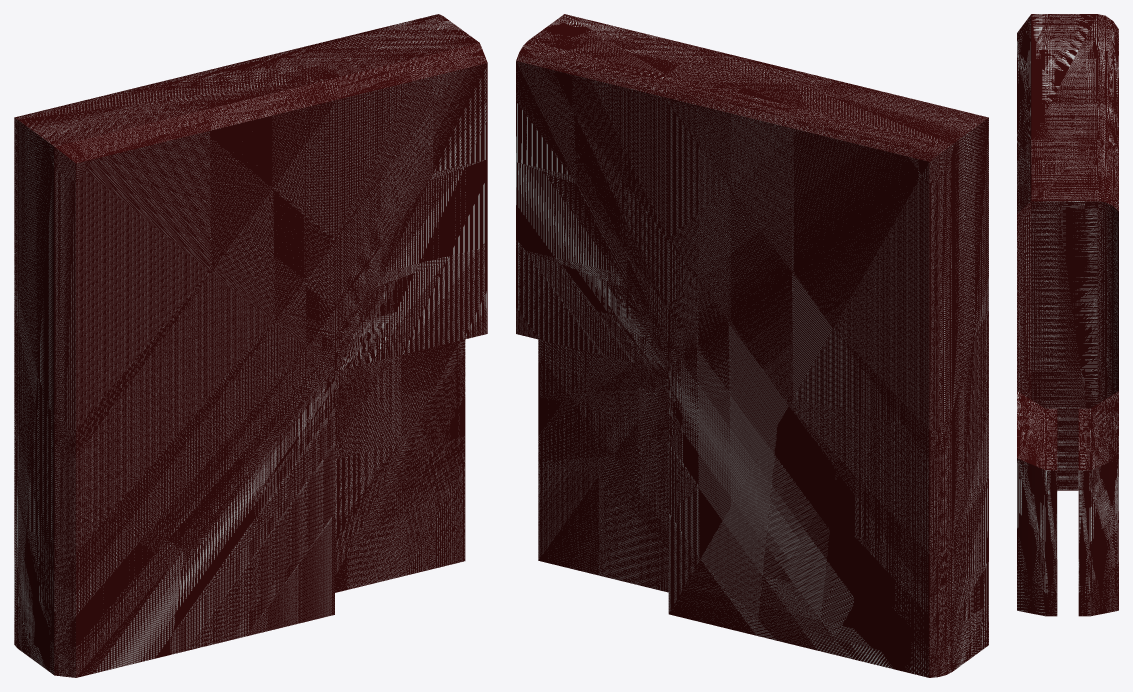
The model's file is original-42.obj.
The picture shows the model from 3 angles, left to right: view 1: azimuth 30°, elevation 25°; view 2: azimuth 150°, elevation 25°; view 3: azimuth 270°, elevation 25°; orthographic projection. The views are drawn at different scales.
Visible parts, largest first — view 1: RT_21_TL1/RT_21_TL/mesh33/mesh33-geometry#mesh33-geometry; view 2: RT_21_TL1/RT_21_TL/mesh33/mesh33-geometry#mesh33-geometry; view 3: RT_21_TL1/RT_21_TL/mesh33/mesh33-geometry#mesh33-geometry.
Part boxes in pixels (x1=…): RT_21_TL1/RT_21_TL/mesh33/mesh33-geometry#mesh33-geometry: x1=14, y1=14, x2=487, y2=677; RT_21_TL1/RT_21_TL/mesh33/mesh33-geometry#mesh33-geometry: x1=516, y1=14, x2=988, y2=677; RT_21_TL1/RT_21_TL/mesh33/mesh33-geometry#mesh33-geometry: x1=1017, y1=14, x2=1118, y2=616.
Size of the model in its own units: 0.1192 by 0.1416 by 0.0274.
